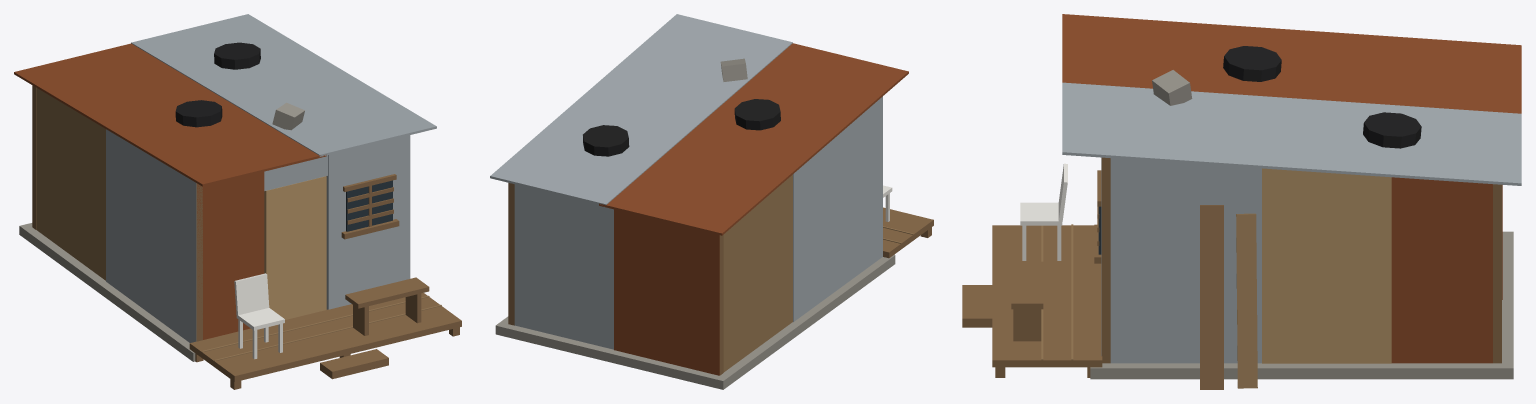
File: BAY_I_TinShack_L.glb
The picture shows the model from 3 angles, left to right: view 1: azimuth 30°, elevation 25°; view 2: azimuth 150°, elevation 25°; view 3: azimuth 270°, elevation 25°; orthographic projection. The views are drawn at different scales.
Parts seen in each view (by area): view 1: BAY_I_TinShack_L; view 2: BAY_I_TinShack_L; view 3: BAY_I_TinShack_L.
Boxes of the visible parts, box(x1,y1,x2,y2) form: BAY_I_TinShack_L: box(14, 14, 461, 389); BAY_I_TinShack_L: box(490, 14, 933, 389); BAY_I_TinShack_L: box(962, 14, 1521, 389).
Size of the model in its own units: 3.57 by 2.68 by 5.6.
Materials: 1 (1 with a texture image).
